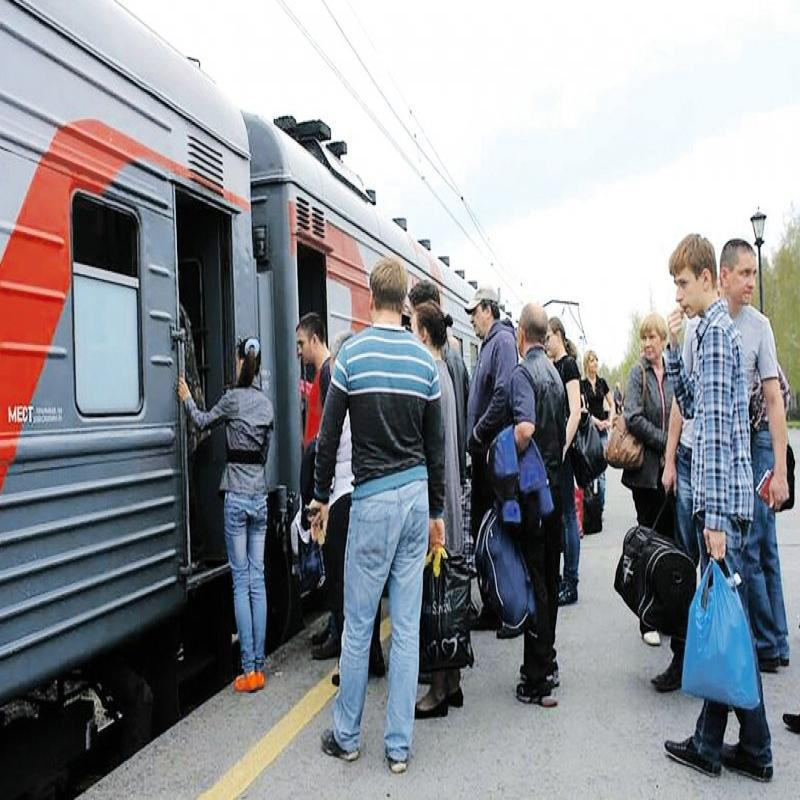train: (1, 0, 176, 766)
